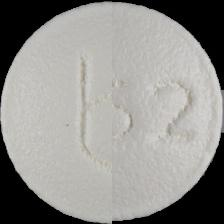0555-0252: (0, 0, 224, 224)
